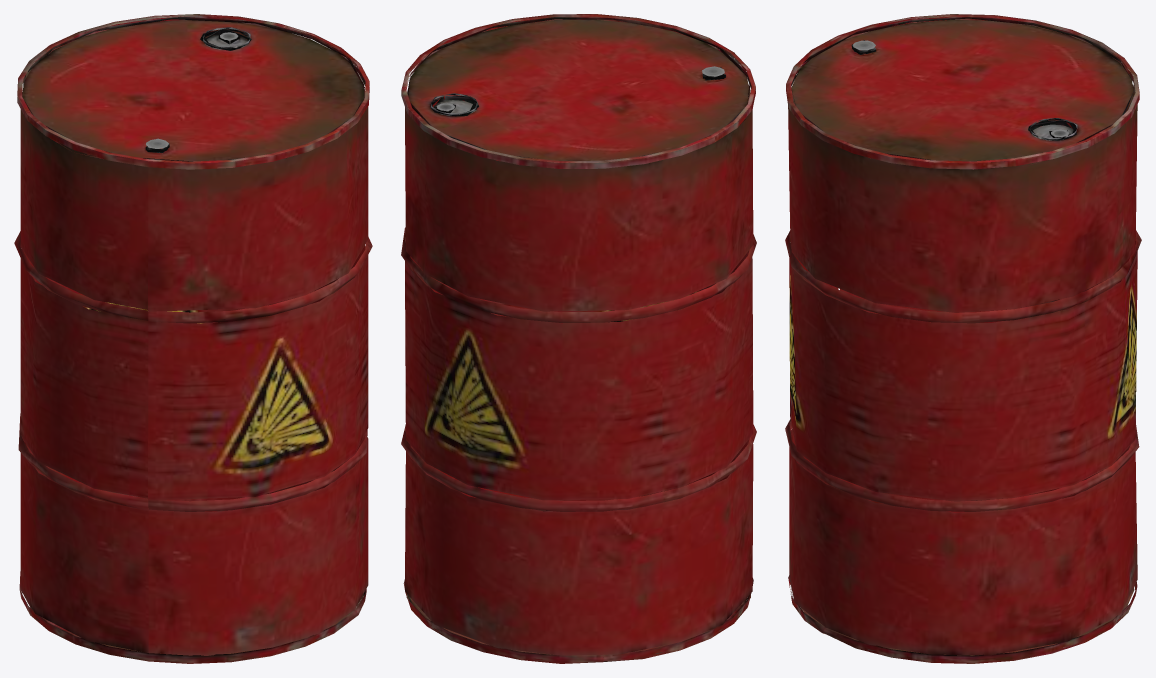
File: barrel.glb
3 views of the same model, side by side, from view 1: azimuth 30°, elevation 25°; view 2: azimuth 150°, elevation 25°; view 3: azimuth 270°, elevation 25° (orthographic).
Visible parts, largest first — view 1: Barrel_01; view 2: Barrel_01; view 3: Barrel_01.
Part boxes in pixels (<box>): Barrel_01: <box>14,14,372,663</box>; Barrel_01: <box>401,14,756,663</box>; Barrel_01: <box>785,14,1141,663</box>.
Size of the model in its own units: 0.5644 by 0.8819 by 0.5658.
1 material, 1 textured.
